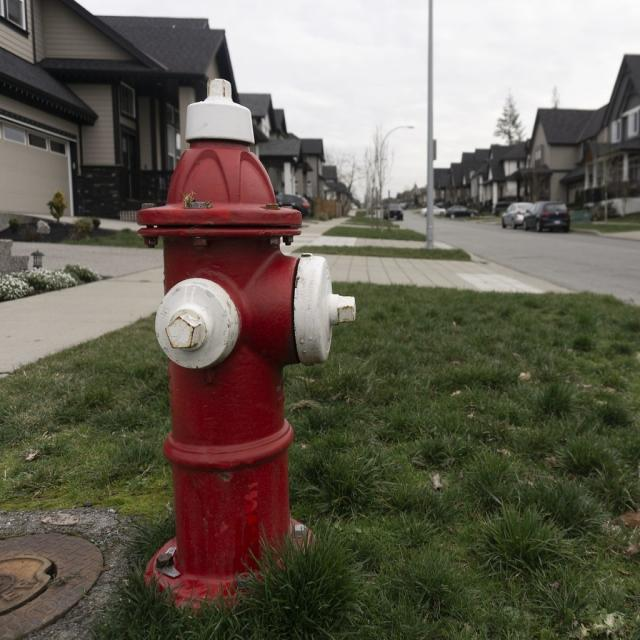fire_hydrant: (98, 60, 372, 589)
